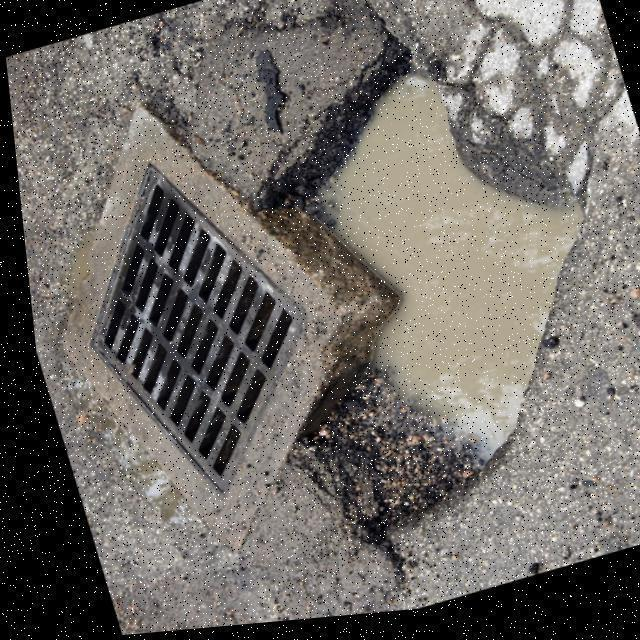Pothole: (232, 34, 602, 563)
